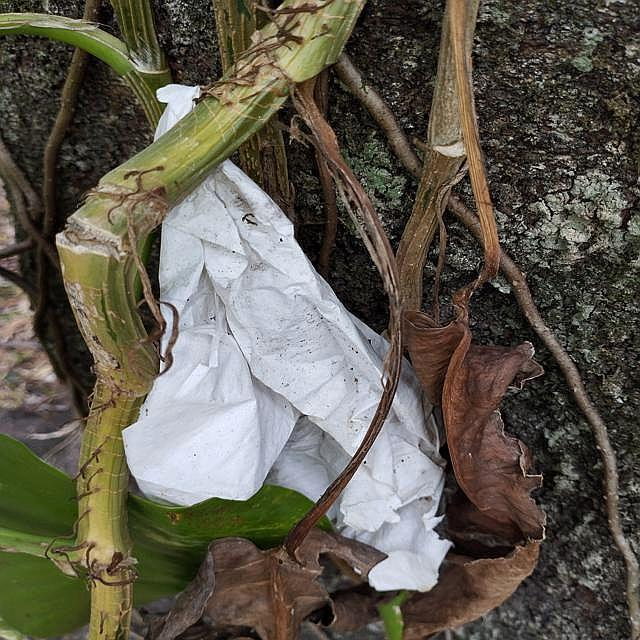Biodegradable: (138, 191, 433, 577)
